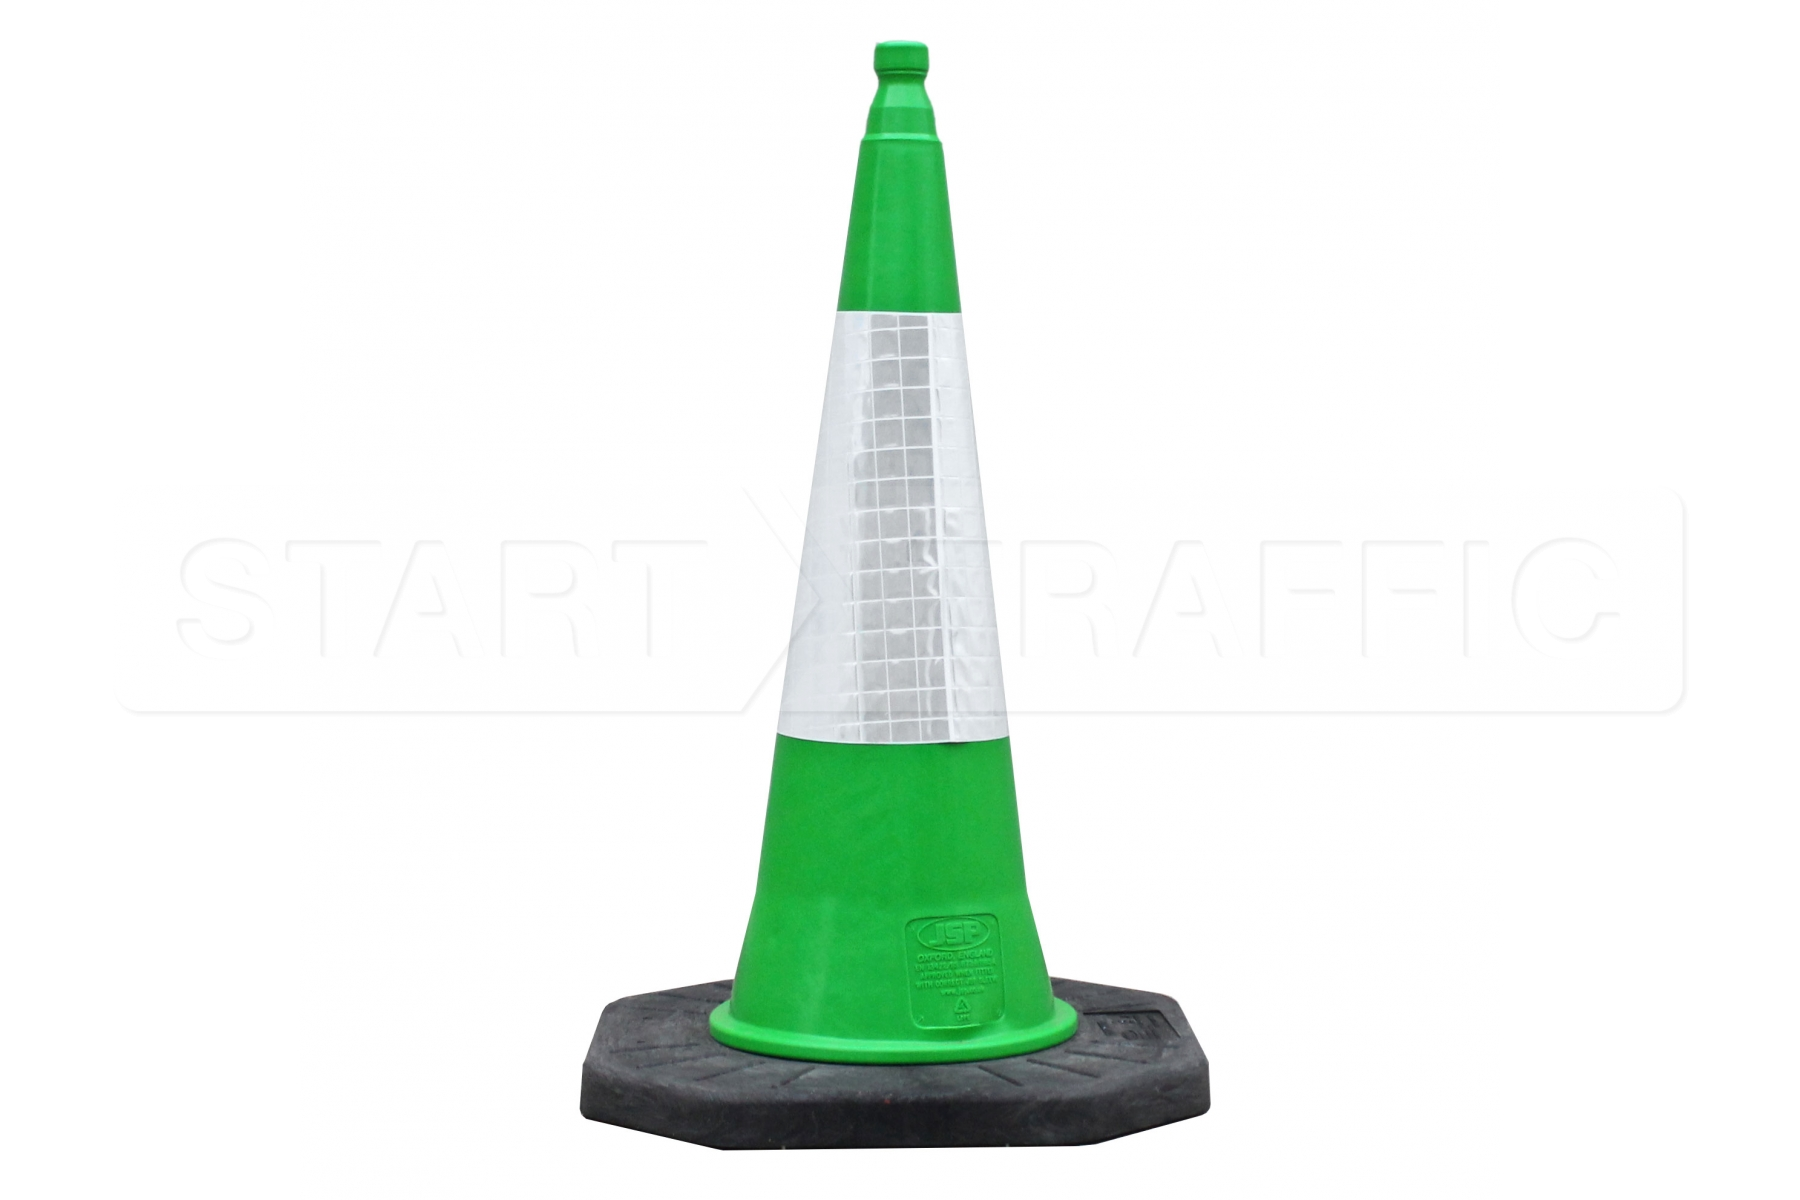cone: (576, 37, 1213, 1152)
